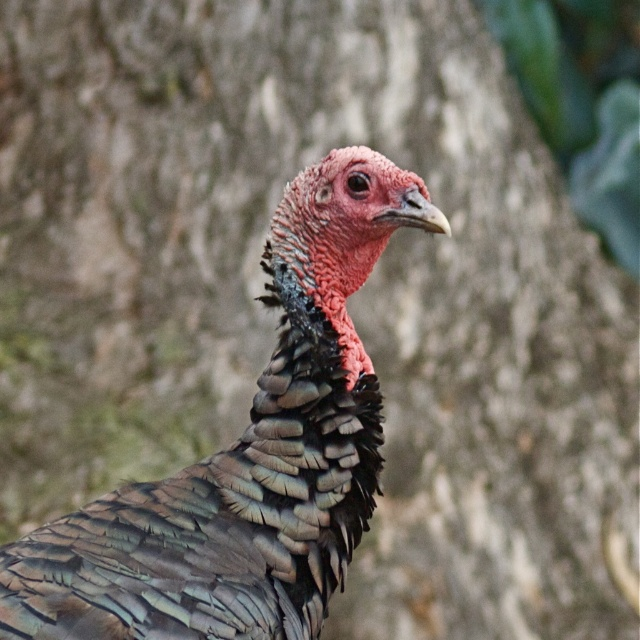Turkey: (0, 145, 451, 640)
